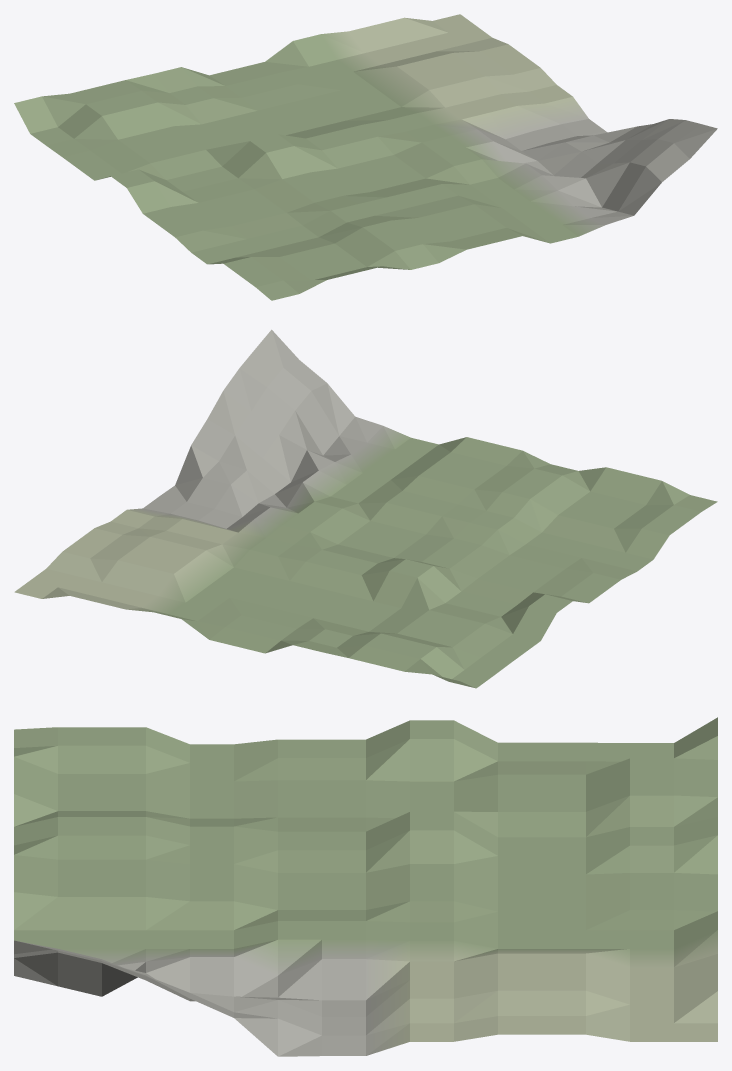
3 views of the same model, one above another, from view 1: azimuth 30°, elevation 25°; view 2: azimuth 150°, elevation 25°; view 3: azimuth 270°, elevation 25° (orthographic). The views are drawn at different scales.
Bounding box in the file's own units: 32 × 5.85 × 32.
